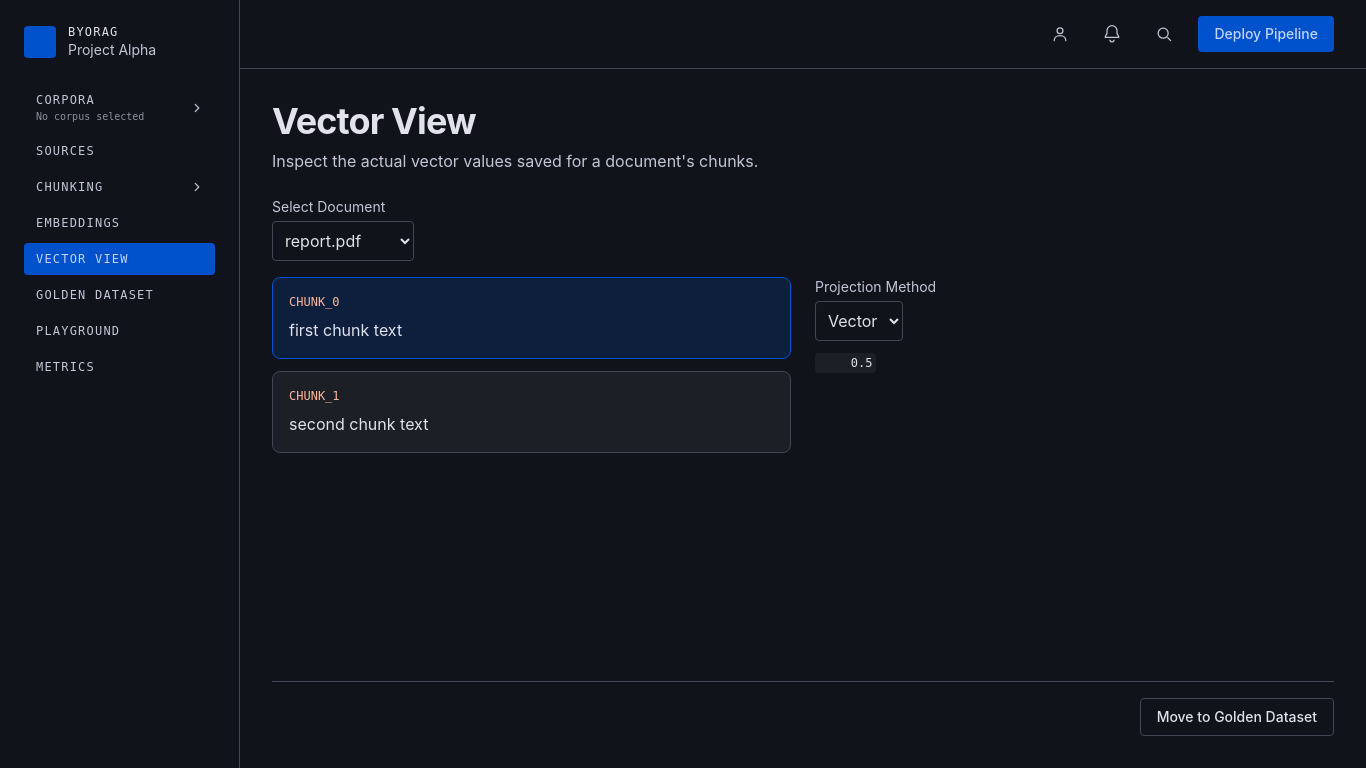
VectorViewScreen — projection method dropdown (014-vector-view-screen US3) › shows the minimum-entries message instead of the grid when UMAP/PCA is selected with too few embedded chunks
Select "UMAP" in the dropdown labelled "Projection Method" at (859, 321), box [815,301,903,341]
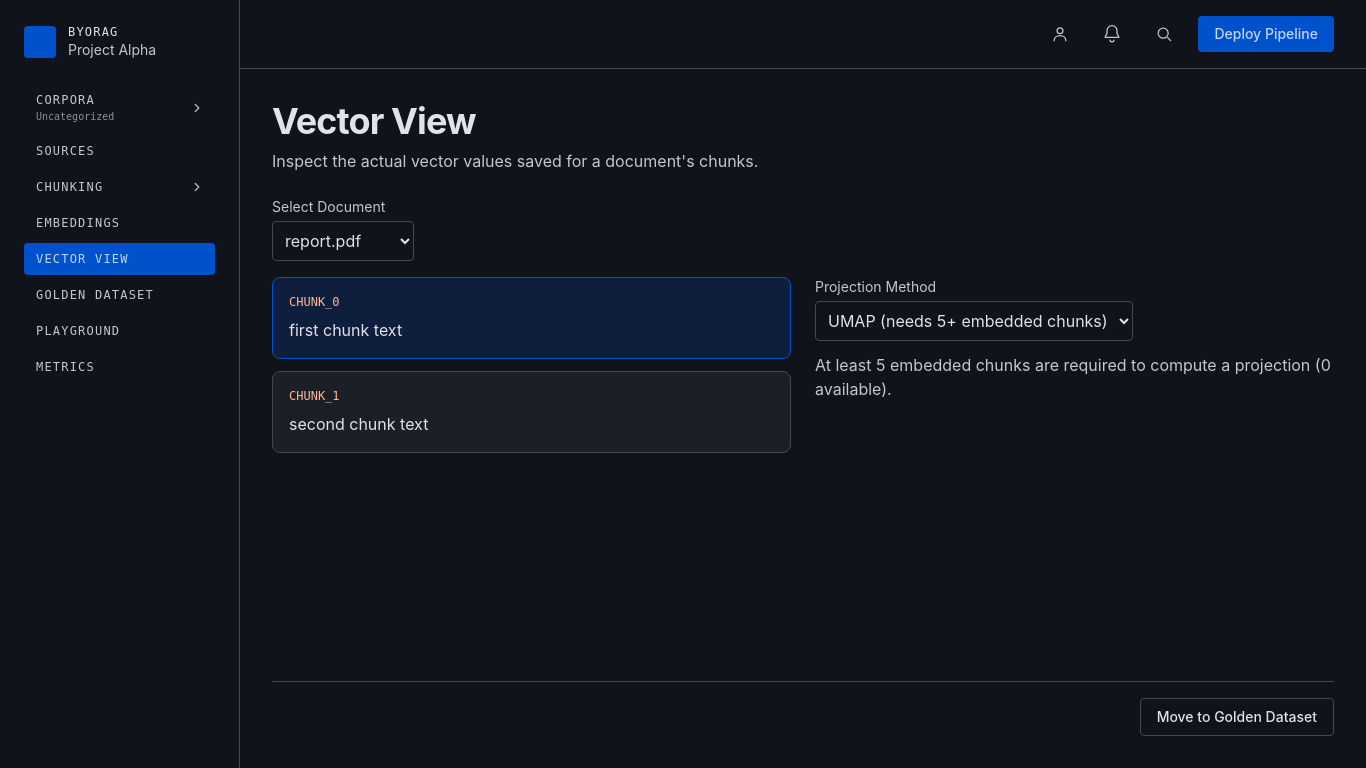
Check: the text with test id "projection-minimum-message" is shown, box [815,353,1334,401]
Check: the element with test id "vector-grid" is gone
